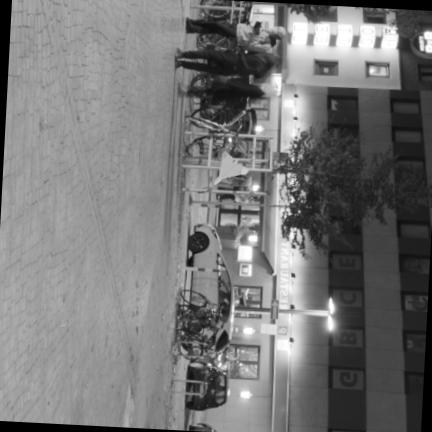Shahed: (214, 153, 247, 185)
